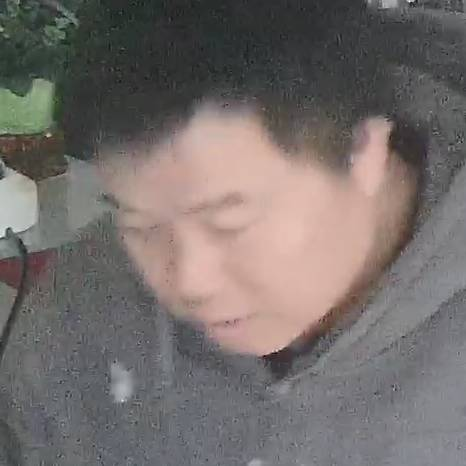cb: (46, 76, 343, 373)
